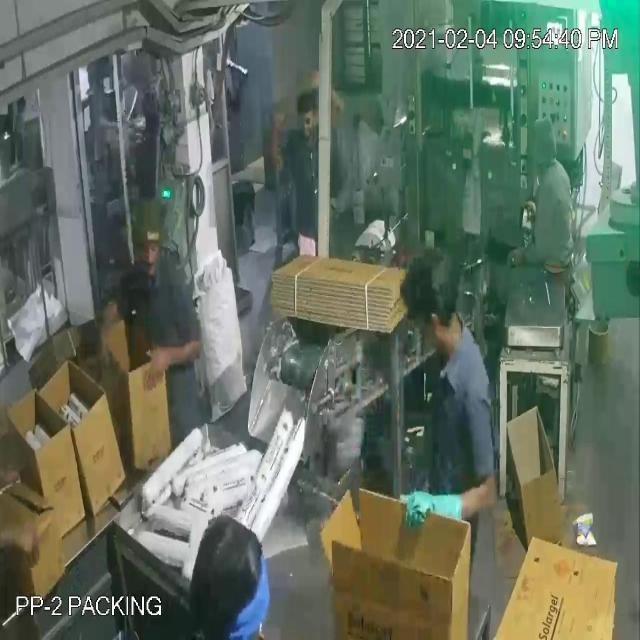No_Gloves: (25, 42, 521, 540)
